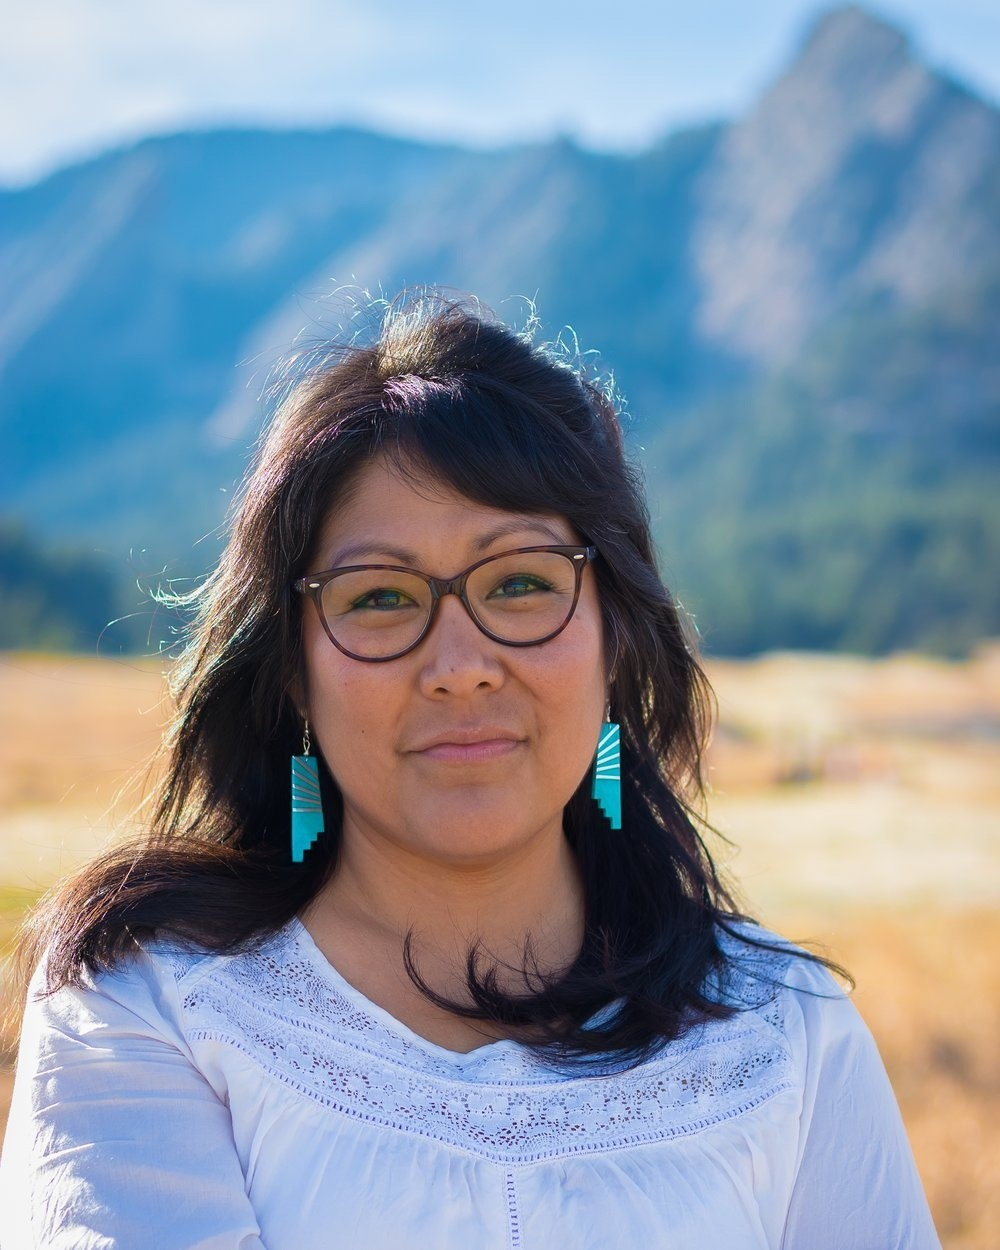face_no_mask: (275, 365, 639, 863)
